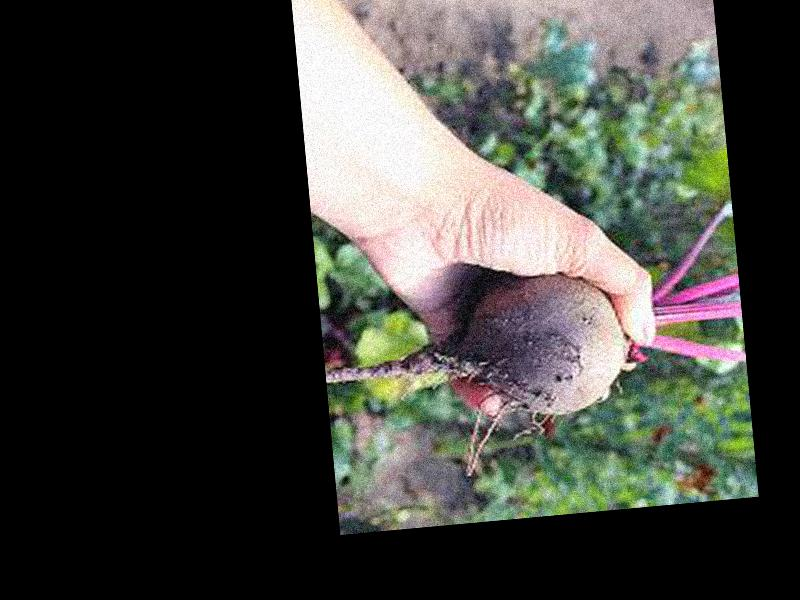Beet: (312, 199, 751, 490)
